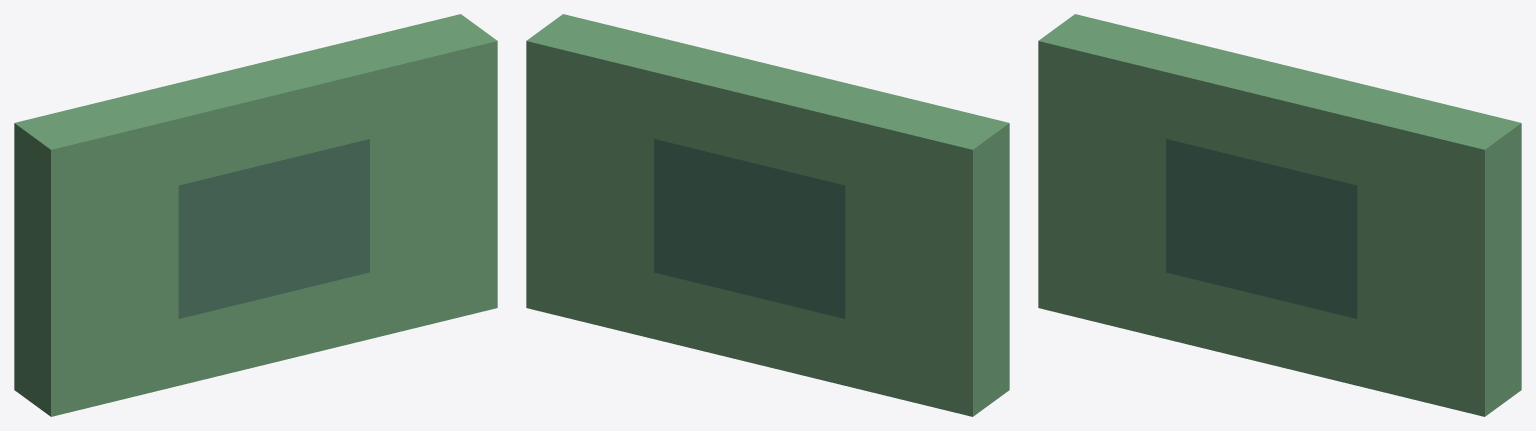
The model's file is billets.glb.
3 renders of one model, left to right at view 1: azimuth 30°, elevation 25°; view 2: azimuth 150°, elevation 25°; view 3: azimuth 330°, elevation 25°, orthographic.
Parts seen in each view (by area): view 1: main; view 2: main; view 3: main.
Part boxes in pixels (<box>): main: <box>14,14,497,416</box>; main: <box>526,14,1009,416</box>; main: <box>1038,14,1521,416</box>.
Size of the model in its own units: 0.4375 by 0.25 by 0.0625.
